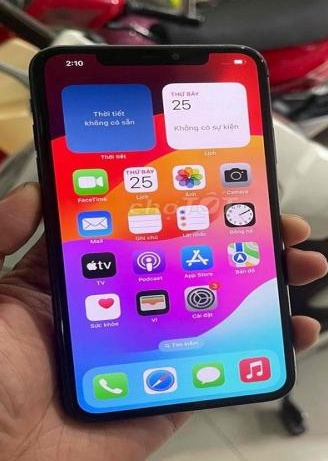scratch: (229, 39, 263, 69)
